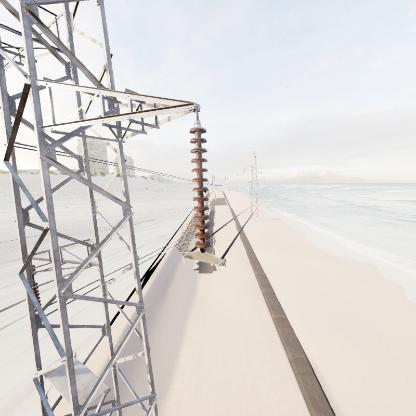insulator: (186, 123, 213, 254)
